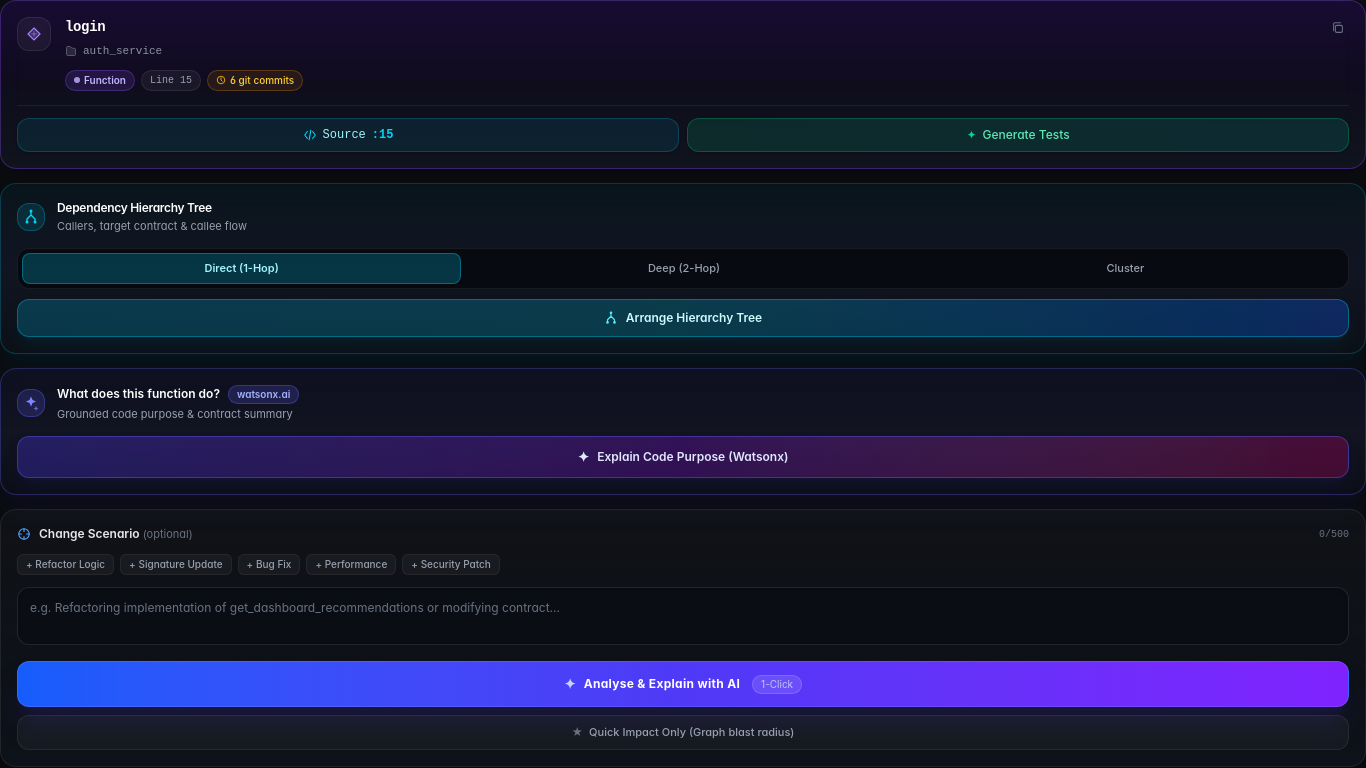
Test: NodePanel with Watsonx Purpose Summary › fetches and displays watsonx summary on button click
Click the text "Explain Code Purpose (Watsonx)" at [693, 457], box [597,449,788,465]
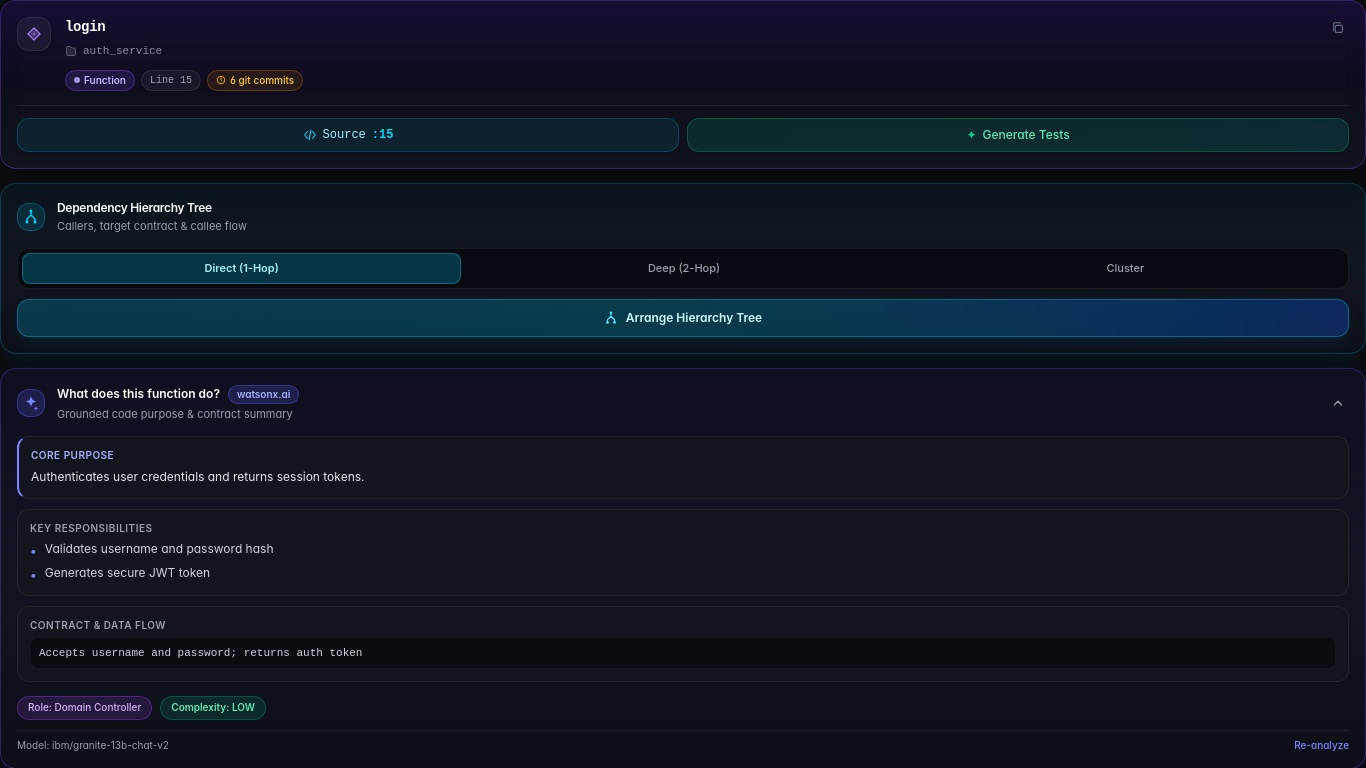
Result: the text "Authenticates user credentials and returns session tokens." is shown at [31,469,364,484]
Result: the text "Validates username and password hash" is shown at [45,542,274,558]
Result: the text "Role: Domain Controller" is shown at [17,696,152,720]
